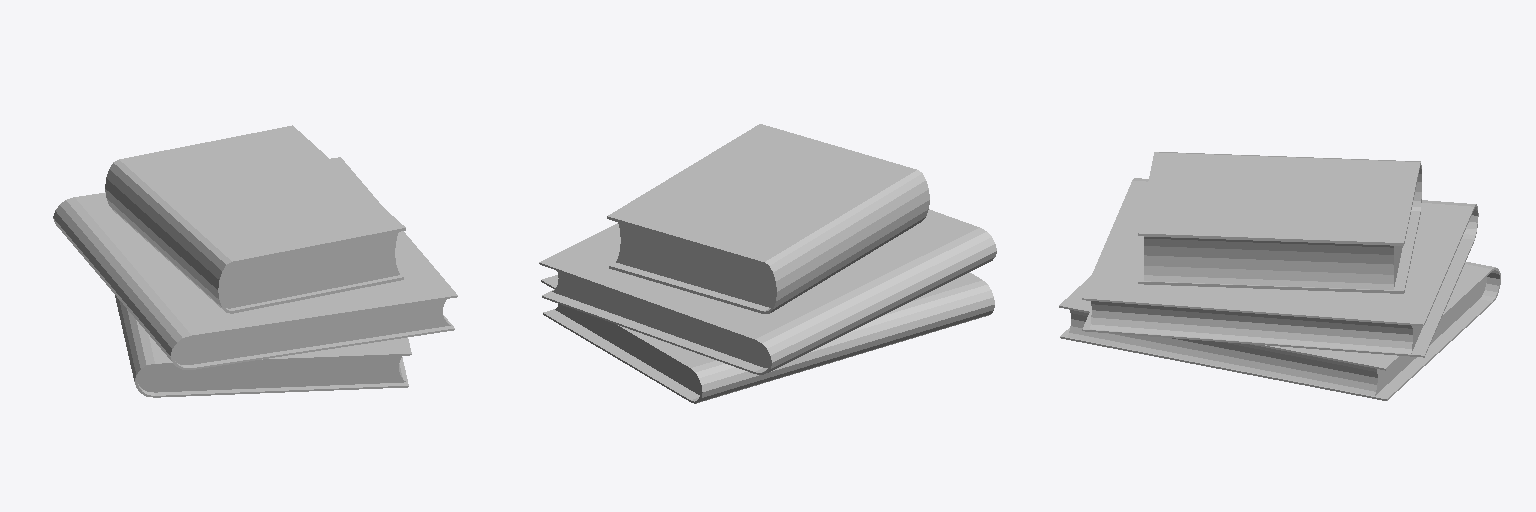
The model's file is books.obj.
3 renders of one model, left to right at view 1: azimuth 30°, elevation 25°; view 2: azimuth 150°, elevation 25°; view 3: azimuth 270°, elevation 25°, orthographic.
Parts seen in each view (by area): view 1: defaultMaterial, defaultMaterial.002, defaultMaterial.001, defaultMaterial.003, defaultMaterial.005, defaultMaterial.004; view 2: defaultMaterial, defaultMaterial.002, defaultMaterial.004, defaultMaterial.001, defaultMaterial.003, defaultMaterial.005; view 3: defaultMaterial, defaultMaterial.002, defaultMaterial.001, defaultMaterial.003, defaultMaterial.005, defaultMaterial.004.
Part boxes in pixels (bbox=[...]): defaultMaterial: bbox=[105, 125, 405, 313]; defaultMaterial.002: bbox=[53, 157, 457, 369]; defaultMaterial.001: bbox=[220, 232, 399, 308]; defaultMaterial.003: bbox=[173, 299, 450, 364]; defaultMaterial.005: bbox=[137, 356, 405, 392]; defaultMaterial.004: bbox=[115, 295, 411, 397]; defaultMaterial: bbox=[607, 124, 929, 313]; defaultMaterial.002: bbox=[539, 209, 996, 374]; defaultMaterial.004: bbox=[541, 272, 994, 403]; defaultMaterial.001: bbox=[616, 222, 774, 307]; defaultMaterial.003: bbox=[552, 271, 769, 367]; defaultMaterial.005: bbox=[555, 304, 700, 394]; defaultMaterial: bbox=[1138, 152, 1421, 293]; defaultMaterial.002: bbox=[1082, 178, 1478, 357]; defaultMaterial.001: bbox=[1144, 237, 1402, 289]; defaultMaterial.003: bbox=[1090, 301, 1422, 353]; defaultMaterial.005: bbox=[1068, 277, 1486, 395]; defaultMaterial.004: bbox=[1059, 262, 1500, 400].
Bounding box in the file's own units: 182 × 61.23 × 200.